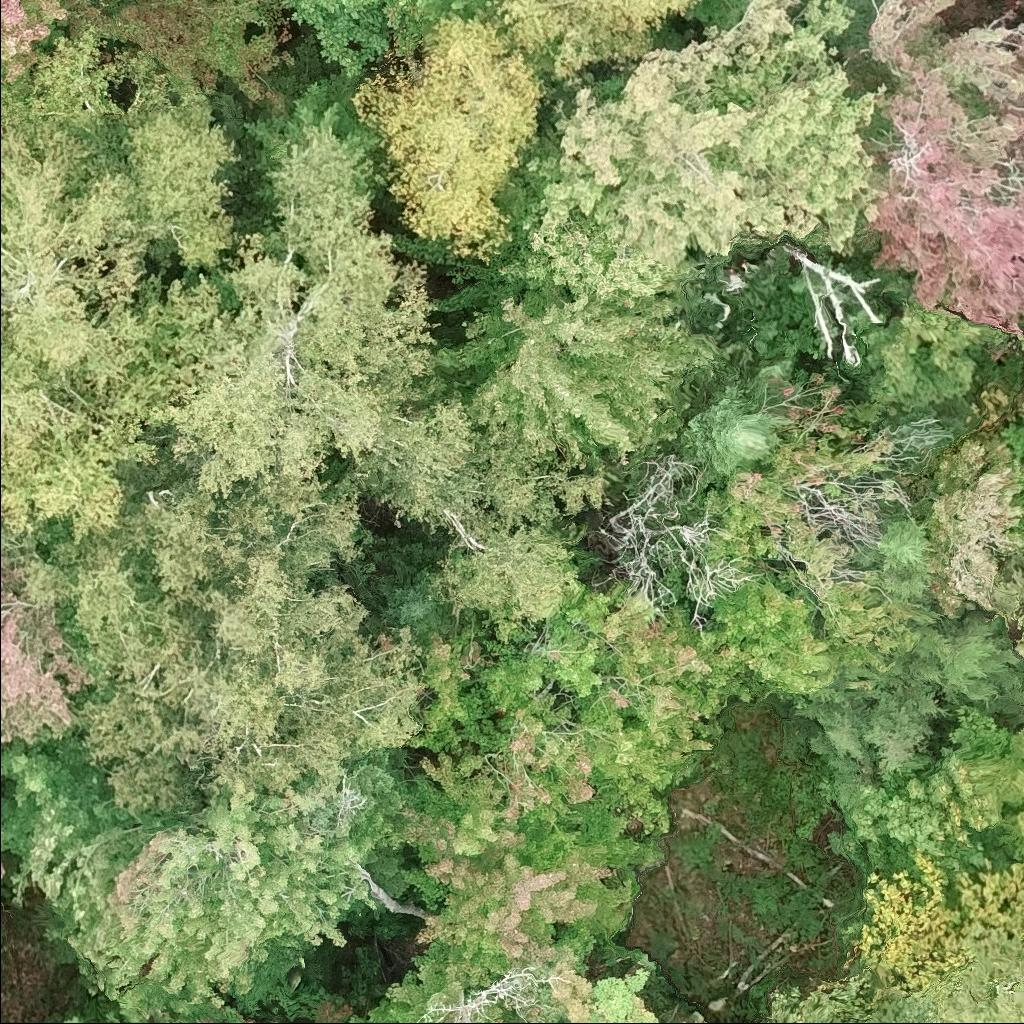crown: (155, 126, 608, 645), (57, 467, 426, 814), (0, 738, 412, 1023), (500, 0, 897, 267), (403, 577, 757, 867), (0, 116, 175, 545), (696, 427, 945, 703), (867, 0, 1023, 340), (438, 282, 722, 464), (351, 10, 545, 265), (400, 792, 665, 968), (792, 608, 1023, 800), (79, 95, 244, 293), (754, 914, 1023, 1023), (0, 522, 97, 769), (488, 210, 708, 311), (98, 0, 296, 103), (828, 770, 985, 880), (283, 0, 493, 78), (485, 0, 697, 77), (679, 354, 795, 490), (516, 919, 665, 1023), (930, 704, 1023, 864), (350, 943, 529, 1023), (0, 23, 120, 134), (361, 539, 456, 645), (0, 0, 103, 83), (342, 747, 424, 822), (858, 516, 931, 597), (1000, 546, 1023, 668), (60, 1000, 157, 1023), (1000, 390, 1023, 453), (309, 1000, 353, 1023), (180, 1016, 222, 1023), (260, 1018, 295, 1023), (0, 857, 6, 878), (681, 1020, 693, 1023)
